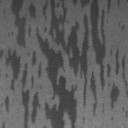red iron: (0, 0, 128, 128), (4, 96, 10, 112), (122, 106, 128, 118), (110, 114, 115, 123), (2, 120, 6, 128), (120, 24, 125, 30), (117, 0, 120, 6)
